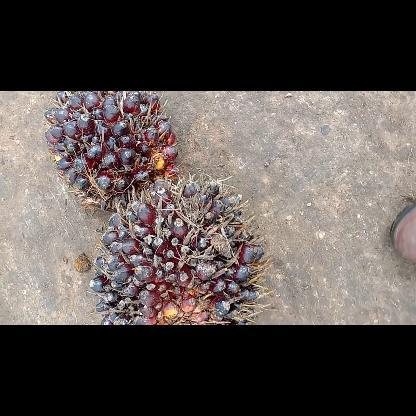TBS mentah: (91, 178, 267, 322), (43, 90, 179, 214)
